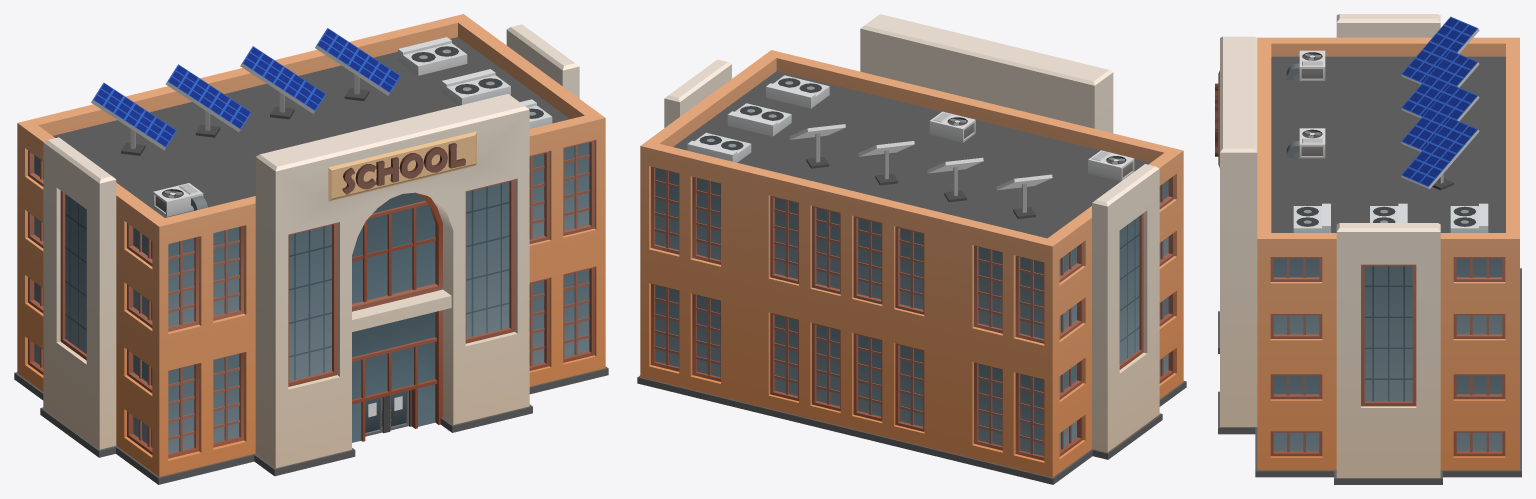
The model's file is school_001.glb.
The picture shows the model from 3 angles, left to right: view 1: azimuth 30°, elevation 25°; view 2: azimuth 150°, elevation 25°; view 3: azimuth 270°, elevation 25°; orthographic projection. The views are drawn at different scales.
Visible parts, largest first — view 1: school_001; view 2: school_001; view 3: school_001.
Part boxes in pixels (x1,y1,x2,y2): school_001: (14,14,608,484); school_001: (637,14,1186,484); school_001: (1215,14,1521,484).
Size of the model in its own units: 29.4 by 17.79 by 17.48.
1 material, 1 textured.
